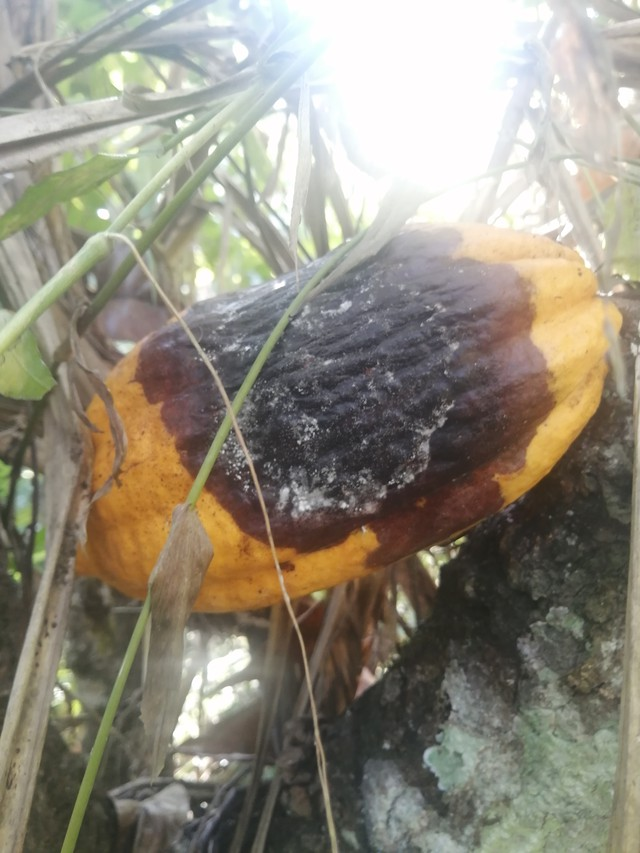moniliophthora roreri: (28, 205, 633, 627)
